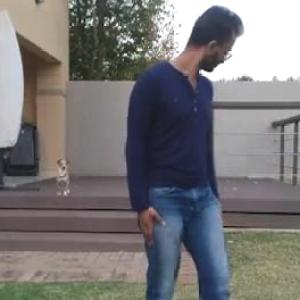follow: (132, 0, 254, 287)
